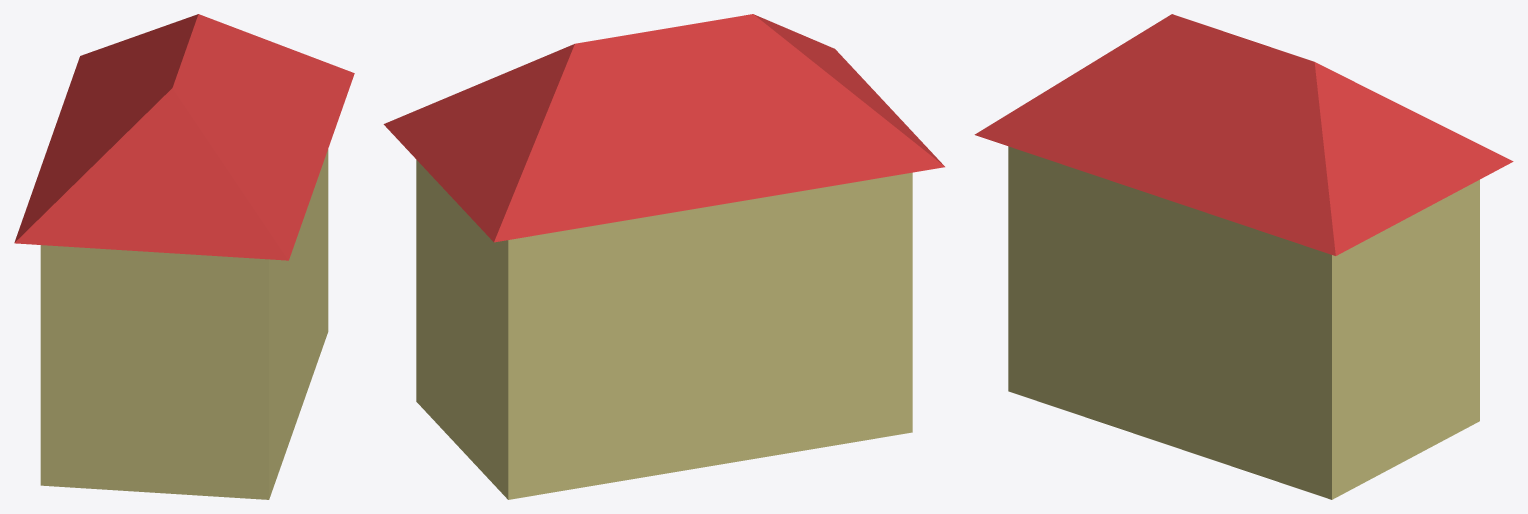
3 views of the same model, side by side, from view 1: azimuth 30°, elevation 25°; view 2: azimuth 150°, elevation 25°; view 3: azimuth 270°, elevation 25° (orthographic). The views are drawn at different scales.
Parts seen in each view (by area): view 1: group_5, group_3, group_4; view 2: group_5, group_3, group_4; view 3: group_5, group_3, group_4.
Boxes of the visible parts, bbox=[...] form: group_5: bbox=[40, 149, 328, 499]; group_3: bbox=[14, 14, 354, 260]; group_4: bbox=[14, 49, 354, 260]; group_5: bbox=[416, 160, 912, 499]; group_3: bbox=[384, 14, 944, 242]; group_4: bbox=[384, 50, 944, 241]; group_5: bbox=[1008, 146, 1479, 499]; group_3: bbox=[974, 14, 1478, 255]; group_4: bbox=[1153, 144, 1513, 255].
Bounding box in the file's own units: 15.88 × 16.76 × 12.64.
